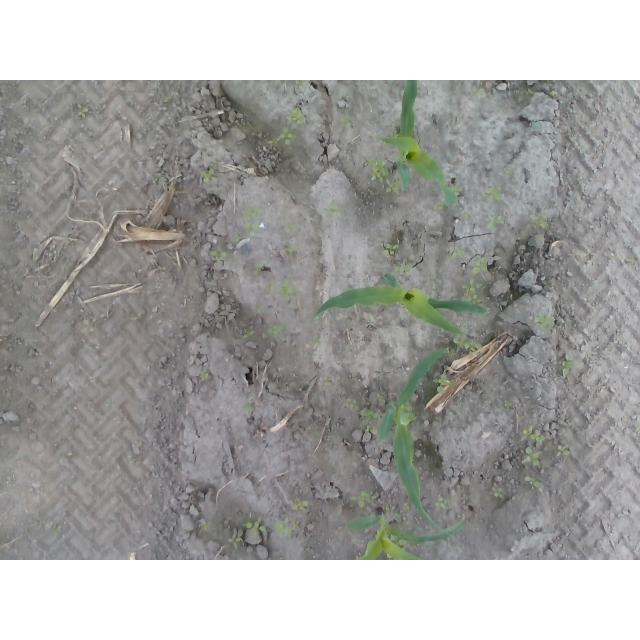Maize: (375, 344, 454, 544), (315, 275, 489, 342), (378, 80, 458, 209), (345, 508, 467, 560)
Weeds: (366, 157, 388, 185), (277, 279, 300, 303), (271, 521, 302, 537), (463, 279, 482, 304), (521, 426, 548, 443), (352, 489, 377, 507), (560, 350, 576, 378), (362, 409, 381, 432), (244, 208, 261, 232), (523, 446, 543, 466), (290, 109, 307, 129), (433, 371, 449, 392), (278, 125, 296, 143), (228, 526, 244, 546), (395, 262, 418, 275), (246, 520, 267, 534), (472, 257, 488, 275), (487, 216, 505, 232), (554, 444, 572, 459), (534, 315, 551, 330), (210, 248, 230, 260), (462, 342, 483, 353), (386, 179, 401, 194), (201, 169, 216, 184), (486, 189, 502, 203), (343, 397, 359, 410), (295, 499, 310, 512), (434, 496, 449, 509), (383, 242, 399, 254), (447, 246, 463, 258), (325, 204, 339, 217), (75, 103, 88, 117), (268, 324, 285, 334), (243, 328, 257, 340), (339, 116, 353, 128), (492, 487, 505, 499), (529, 479, 543, 490), (534, 217, 547, 227), (199, 371, 210, 382), (294, 80, 307, 89), (231, 233, 241, 243), (375, 394, 386, 403), (503, 400, 514, 409), (288, 245, 297, 256), (323, 376, 333, 385), (255, 263, 262, 273)
